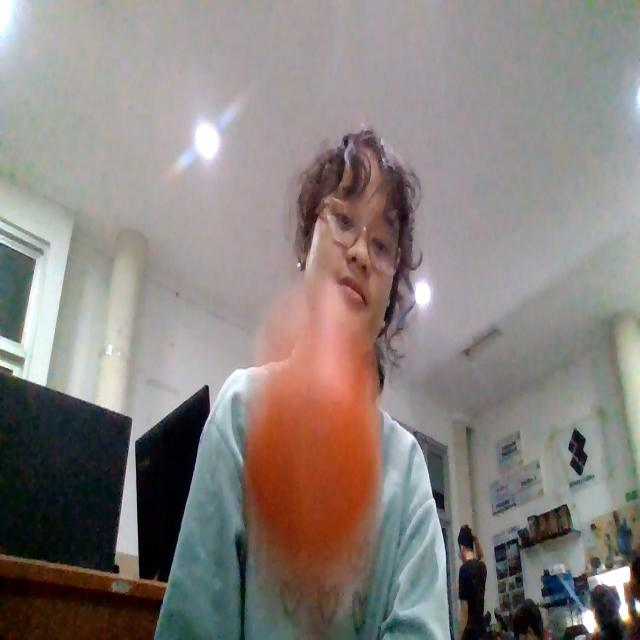ball: (250, 318, 380, 592)
